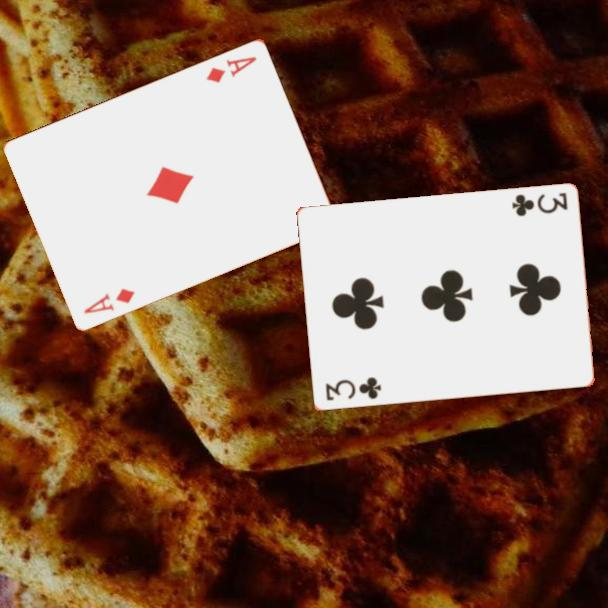c03: (322, 374, 384, 404), (508, 189, 570, 219)
d01: (80, 284, 138, 316), (203, 53, 260, 85)
